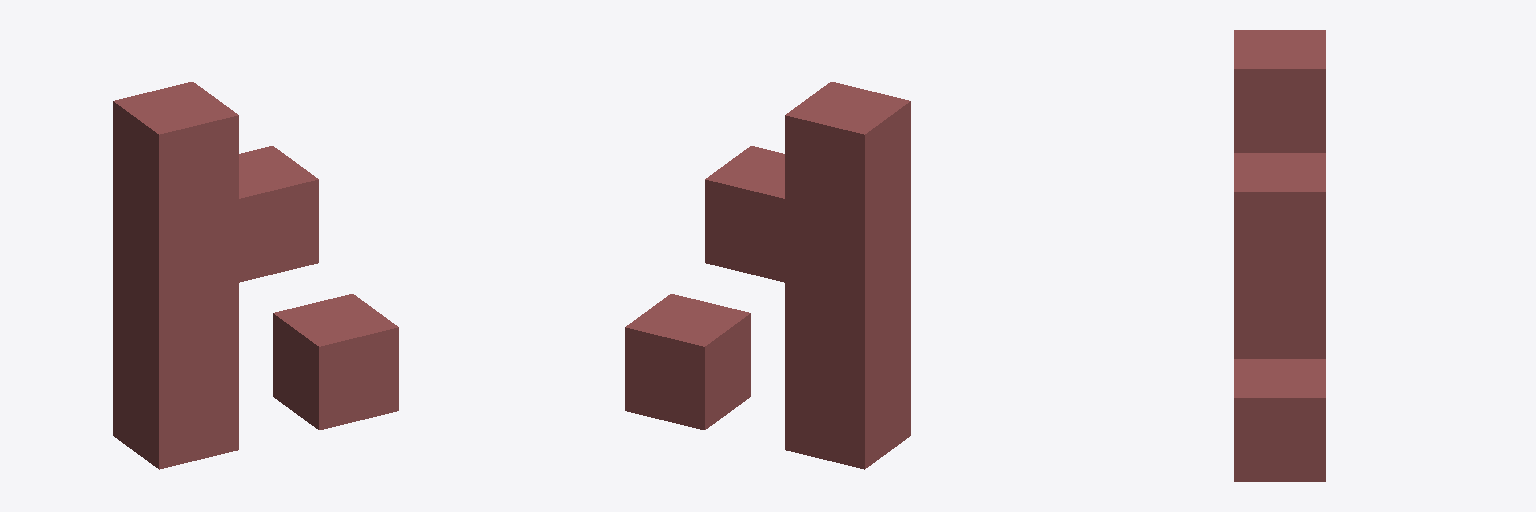
3 renders of one model, left to right at view 1: azimuth 30°, elevation 25°; view 2: azimuth 150°, elevation 25°; view 3: azimuth 270°, elevation 25°, orthographic.
Parts seen in each view (by area): view 1: object 1; view 2: object 1; view 3: object 1.
Boxes of the visible parts, x1,y1,x2,y2 form: object 1: [113, 82, 398, 469]; object 1: [625, 82, 910, 469]; object 1: [1234, 30, 1325, 481].
Size of the model in its own units: 0.3 by 0.4 by 0.1.
1 materials, 1 textured.